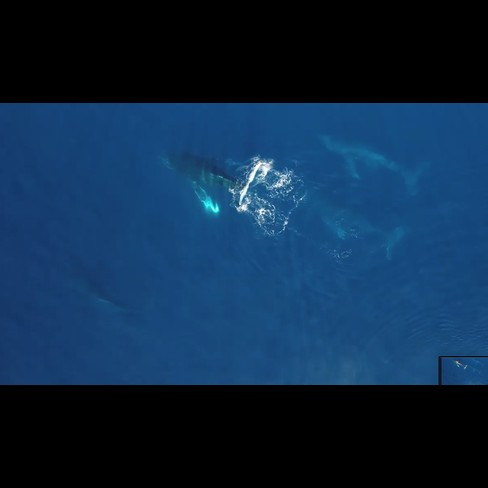hump: (153, 141, 284, 230), (312, 133, 431, 197), (311, 202, 414, 258)
